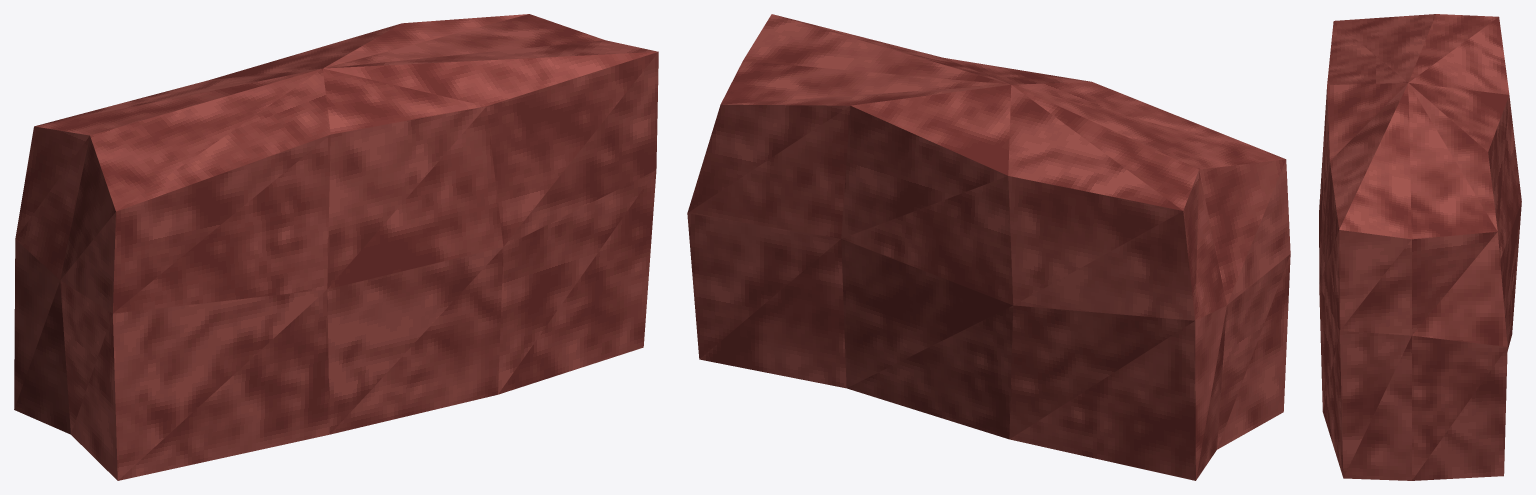
File: slab.glb
3 views of the same model, side by side, from view 1: azimuth 30°, elevation 25°; view 2: azimuth 150°, elevation 25°; view 3: azimuth 270°, elevation 25° (orthographic). The views are drawn at different scales.
Visible parts, largest first — view 1: Slab; view 2: Slab; view 3: Slab.
Part boxes in pixels (x1,y1,x2,y2): Slab: (14, 14, 658, 480); Slab: (687, 14, 1290, 480); Slab: (1319, 14, 1521, 480).
Size of what is drawn, in the model's own units: 3.09 by 1.72 by 1.14.
1 material, 1 textured.
